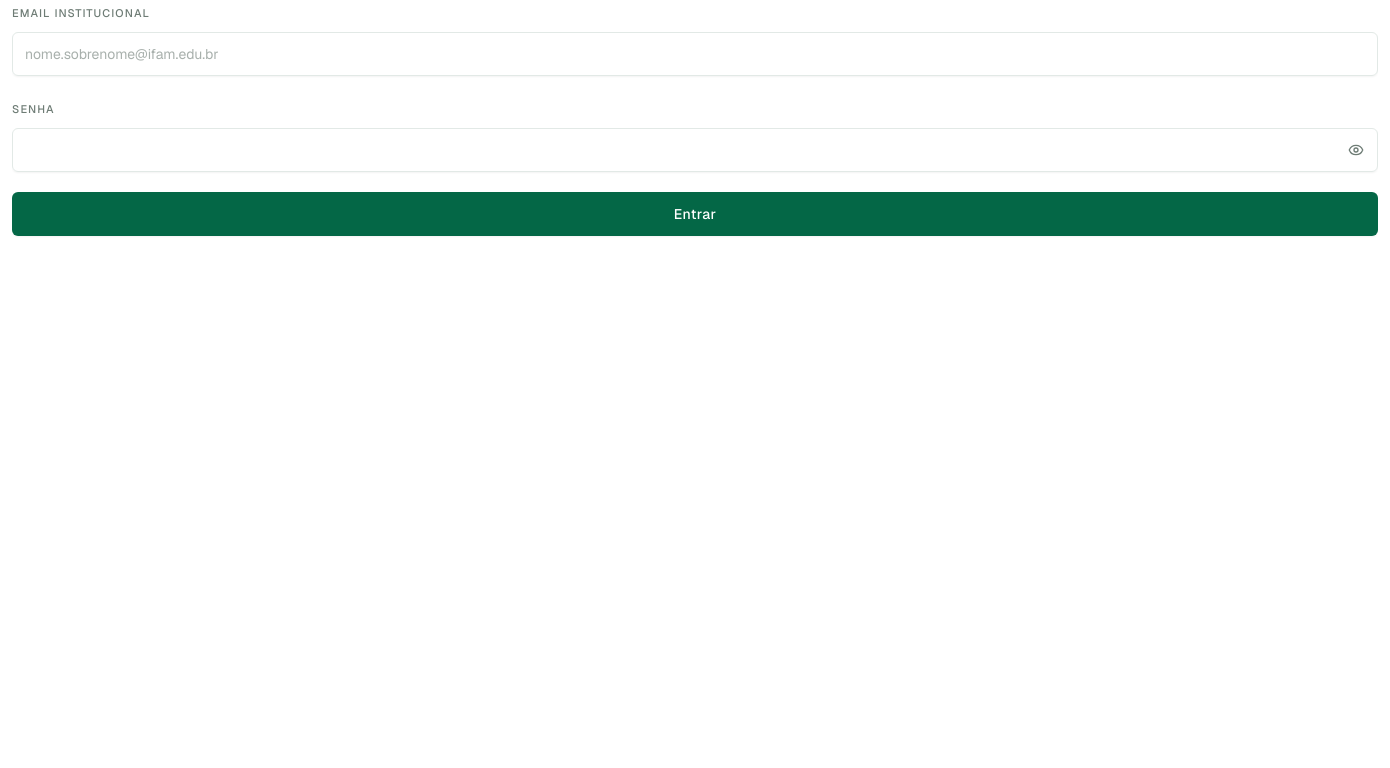
<LoginForm /> › em erro INVALID_CREDENTIALS exibe toast e não redireciona
Type "joana@ifam.edu.br" into the field labelled "Email institucional".
click(695, 54); type("joana@ifam.edu.br")  # box [12,32,1378,76]
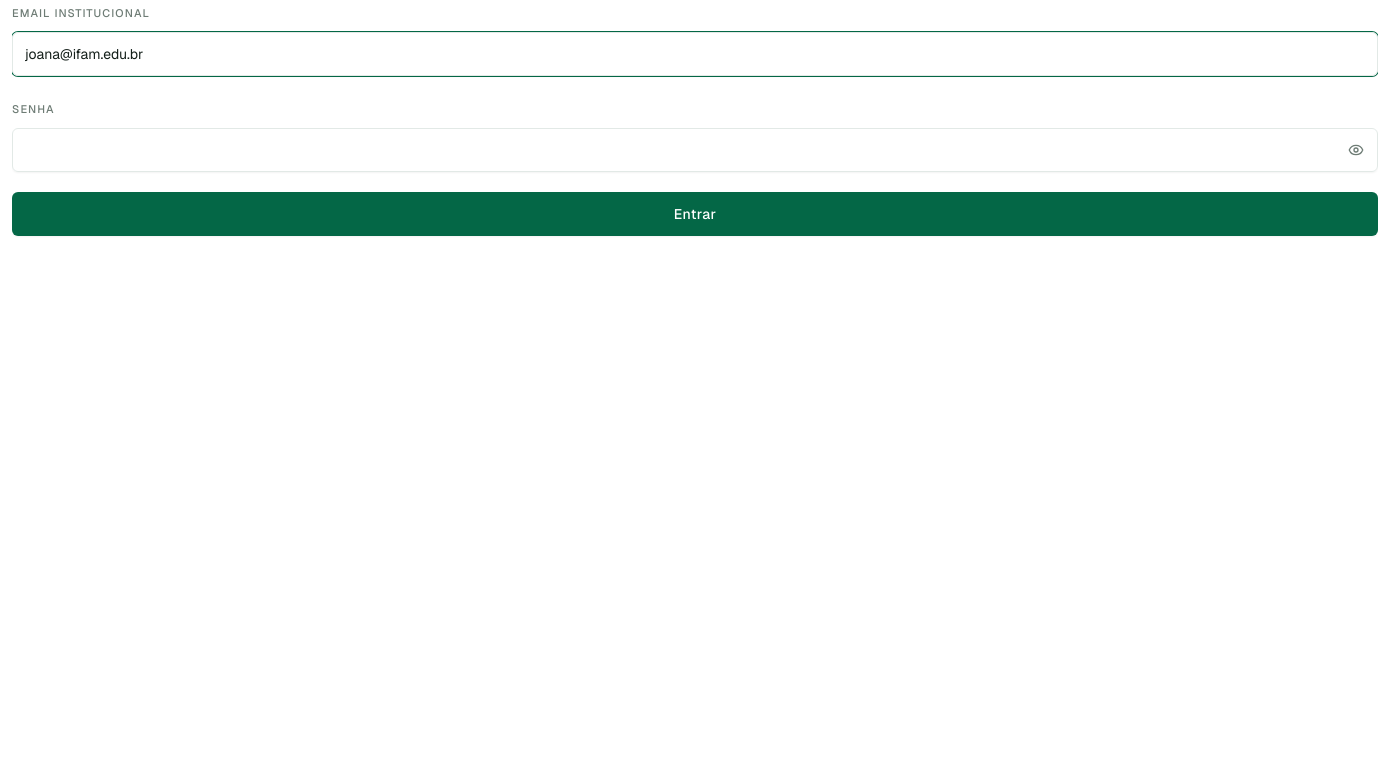
Type "errada" into the password field labelled "Senha".
click(695, 150); type("errada")  # box [12,128,1378,172]
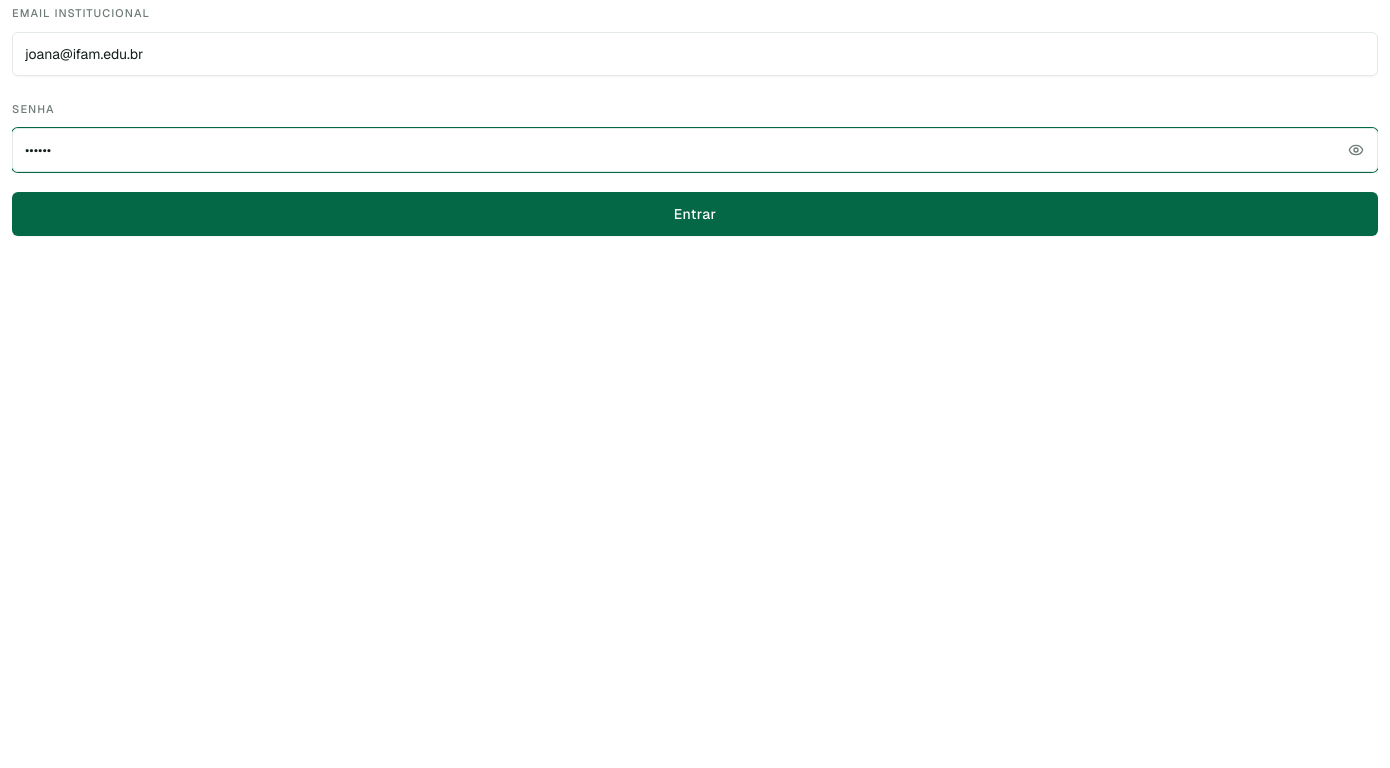
Click the button "Entrar".
click(695, 214)  # box [12,192,1378,236]
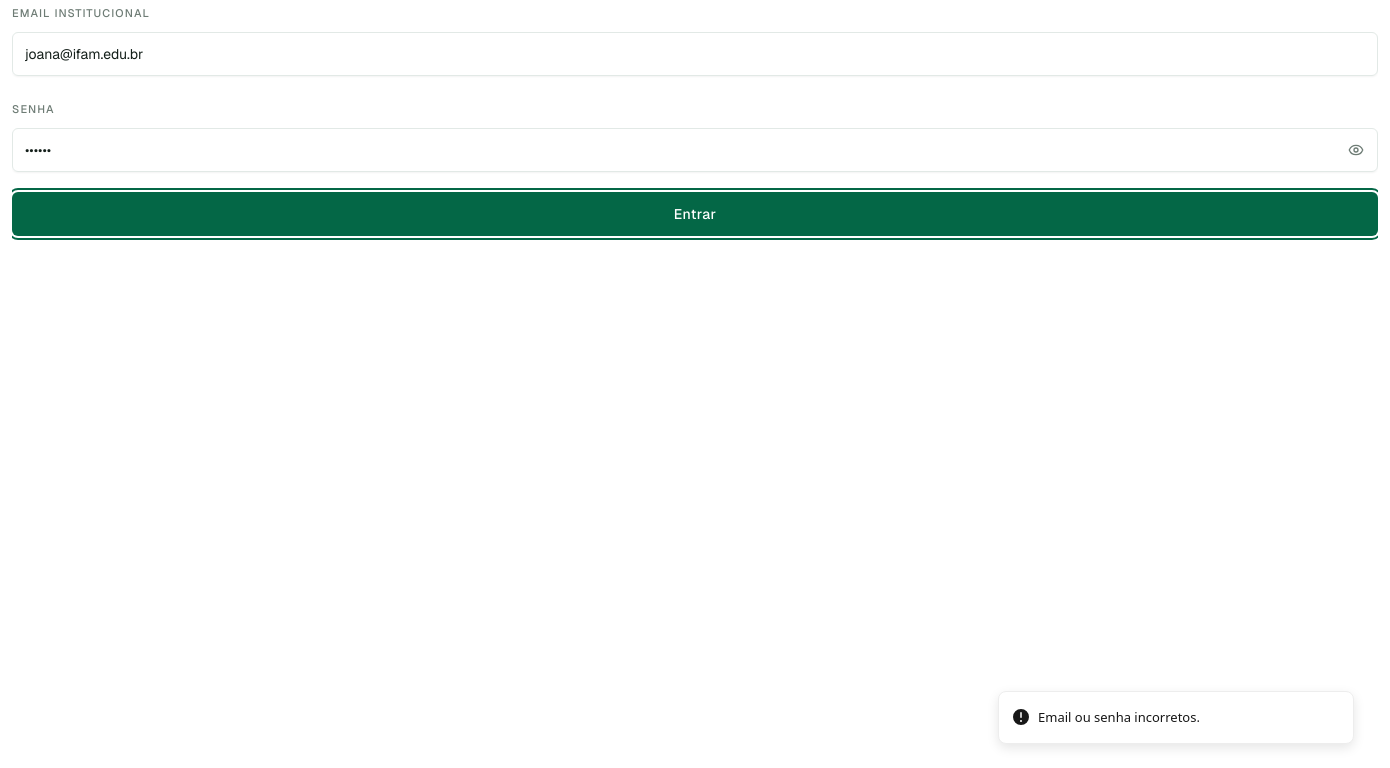
Expected: the text "Email ou senha incorretos." is shown, [1038,708,1200,727]
